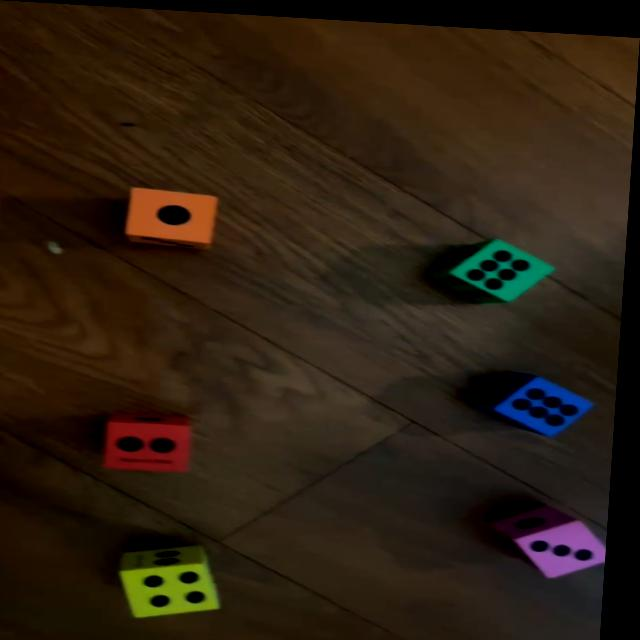cube: (429, 227, 565, 305), (484, 365, 600, 434), (110, 407, 197, 470)
